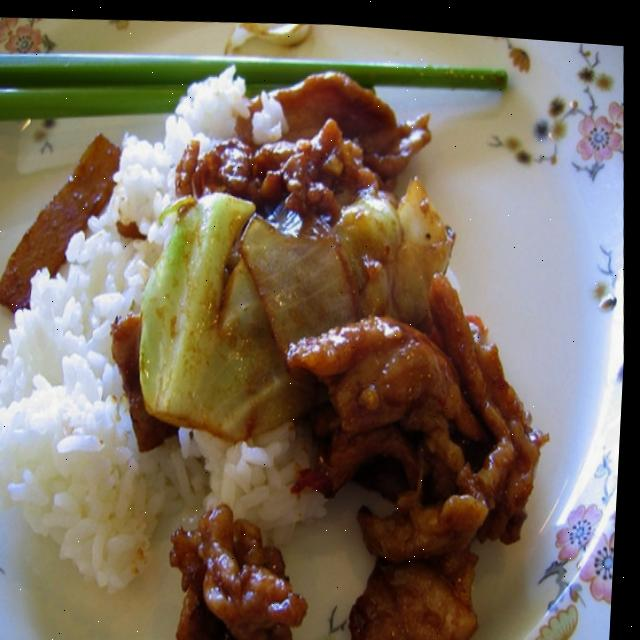猪肉菜式: (0, 28, 514, 640)
